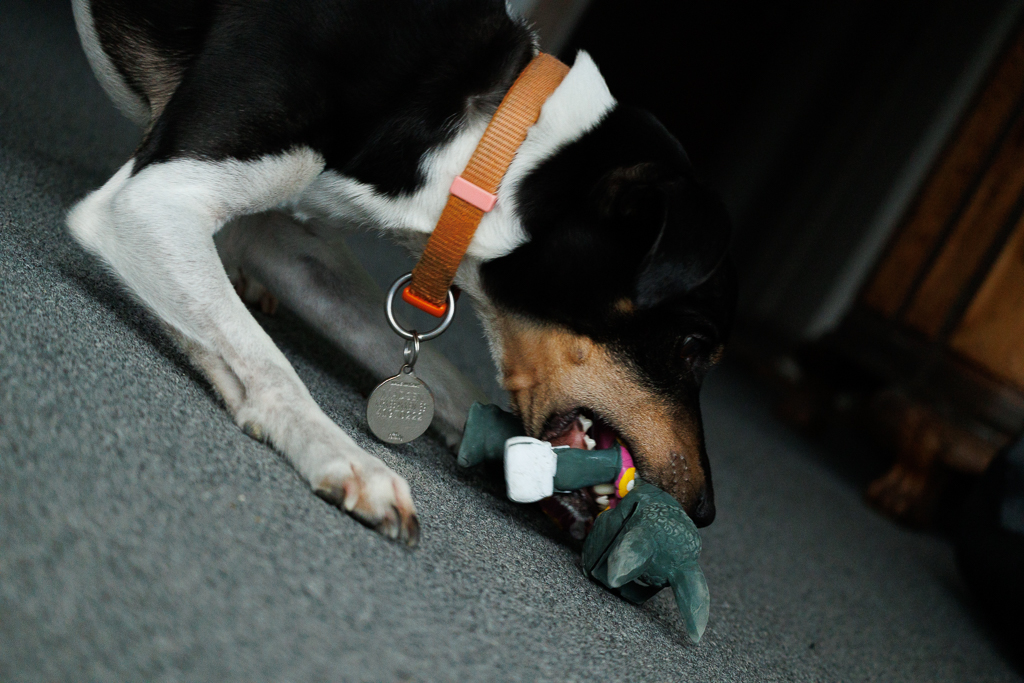Dog: (60, 0, 766, 558)
Humanoid: (445, 384, 724, 653)
